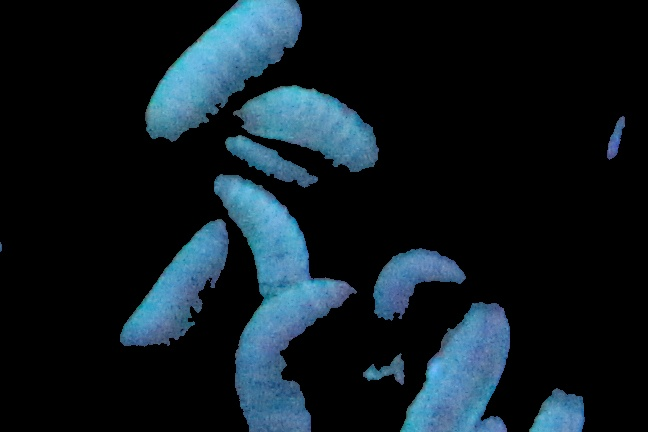larvae: (141, 1, 314, 163), (230, 73, 397, 194), (222, 286, 357, 432), (109, 217, 236, 363), (201, 165, 322, 302), (399, 301, 511, 432), (218, 125, 353, 215), (364, 244, 478, 342)
